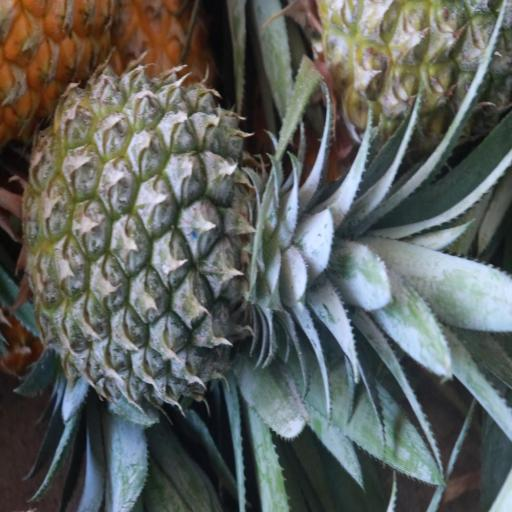------------------------------: (320, 0, 512, 159)
